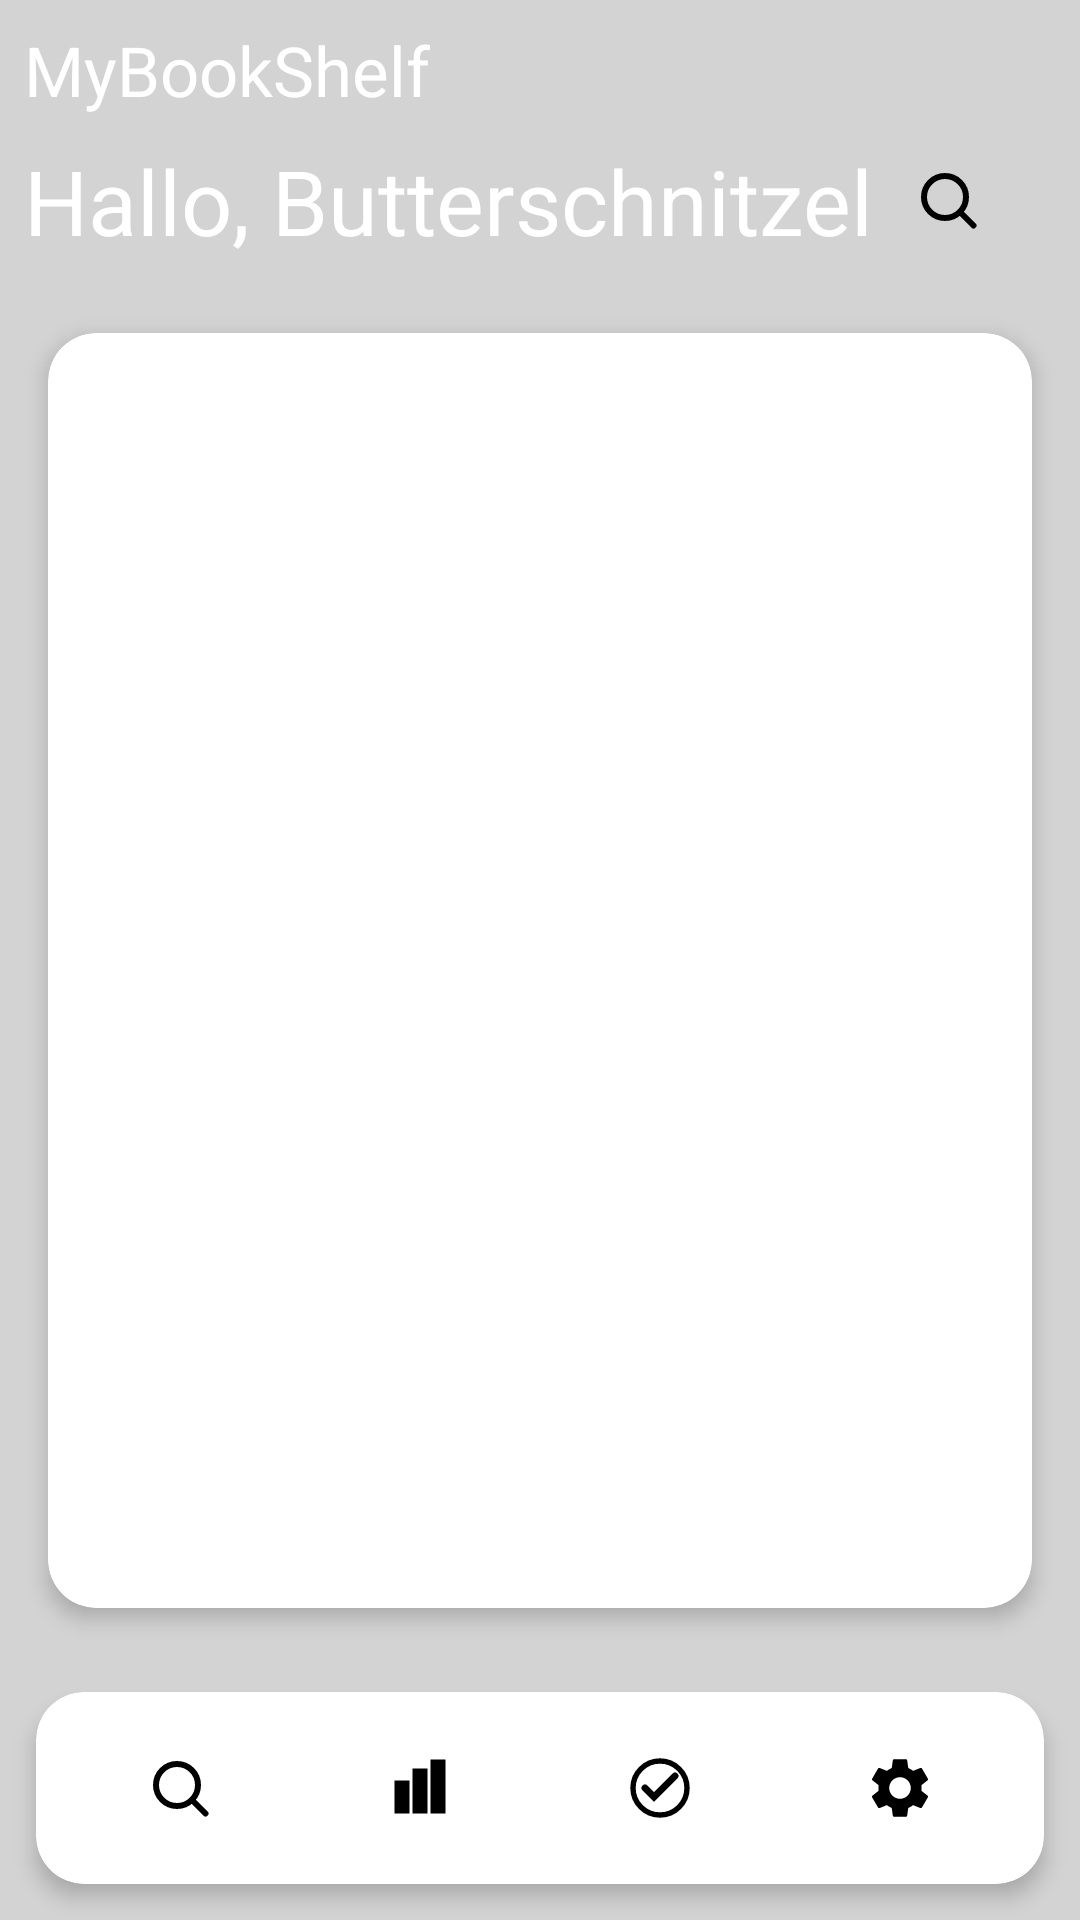

Where icons sit on this 1080px×1920px app screen, as (x1, y1, x2, y2):
goal: (630, 1758, 690, 1818)
search: (921, 173, 977, 229), (153, 1761, 209, 1817)
settings: (872, 1759, 928, 1817)
Stats: (394, 1759, 446, 1814)
